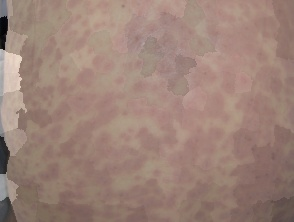SJS-TEN: (7, 0, 293, 222)
